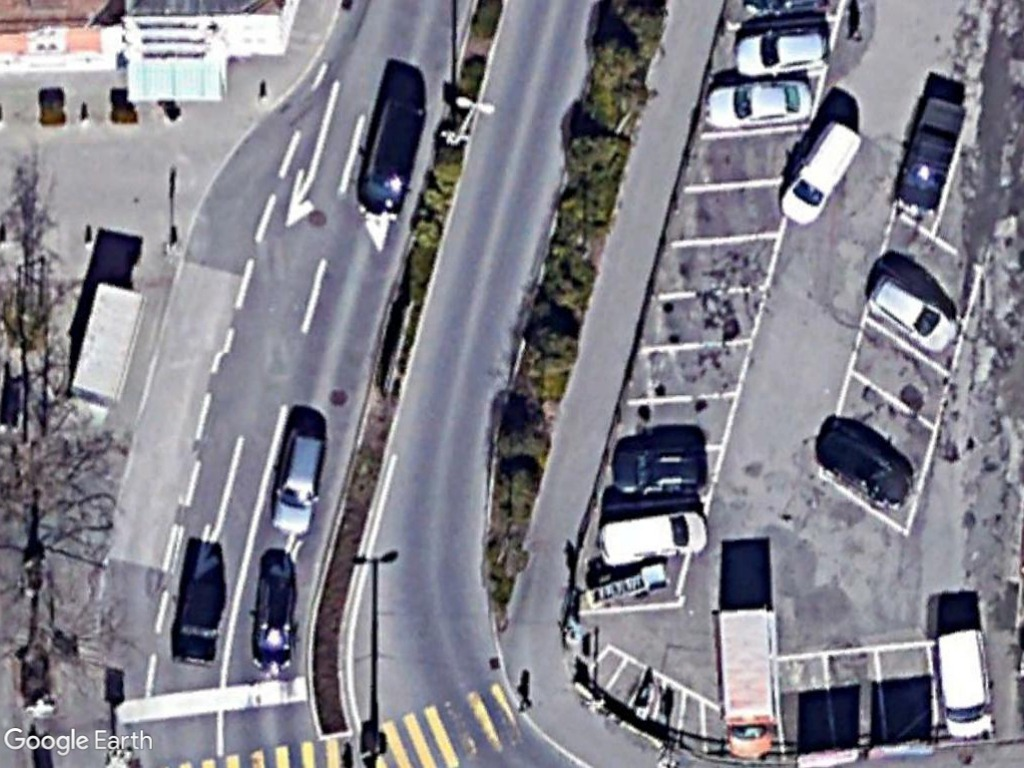car: (266, 420, 333, 536), (871, 274, 962, 355), (701, 80, 816, 134), (610, 445, 712, 501), (730, 22, 831, 78)
truck: (712, 604, 781, 762)
van: (775, 115, 867, 229), (593, 508, 715, 569), (935, 626, 996, 741)
